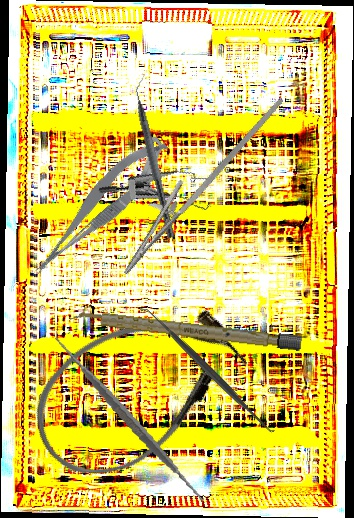Cannula: (8, 276, 266, 503)
Chopper: (127, 72, 186, 240)
Micro Scissor: (16, 130, 181, 281)
Needle Holder: (107, 71, 285, 292)
Scalpel Handle: (69, 307, 304, 352)
Spatula Surgical: (34, 326, 225, 512), (136, 298, 279, 442)
Speculum: (97, 151, 223, 241)
